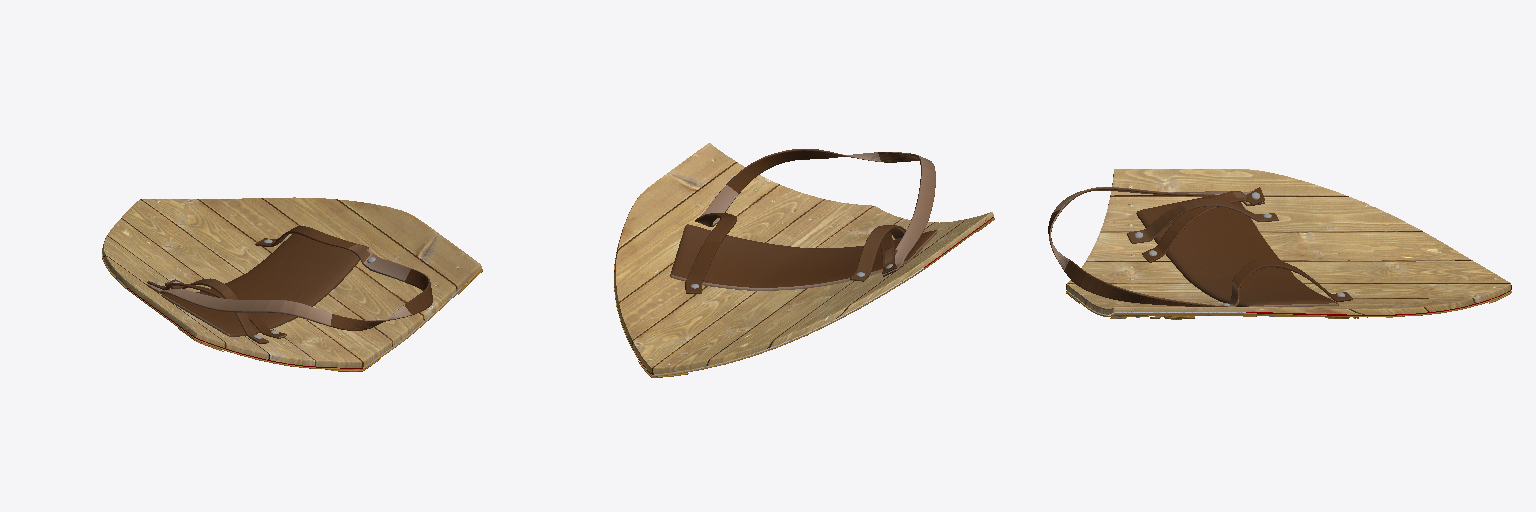
3 renders of one model, left to right at view 1: azimuth 30°, elevation 25°; view 2: azimuth 150°, elevation 25°; view 3: azimuth 270°, elevation 25°, orthographic.
Visible parts, largest first — view 1: Heater_Shield_body, Heater_Shield_decor_2, Heater_Shield_decor; view 2: Heater_Shield_body, Heater_Shield_decor_2, Heater_Shield_decor; view 3: Heater_Shield_body, Heater_Shield_decor_2, Heater_Shield_decor.
Part boxes in pixels (left/top/right/bottom): Heater_Shield_body: left=102, top=197, right=481, bottom=368; Heater_Shield_decor_2: left=147, top=226, right=432, bottom=343; Heater_Shield_decor: left=102, top=256, right=482, bottom=371; Heater_Shield_body: left=614, top=143, right=993, bottom=374; Heater_Shield_decor_2: left=670, top=149, right=936, bottom=293; Heater_Shield_decor: left=614, top=218, right=994, bottom=377; Heater_Shield_body: left=1066, top=169, right=1511, bottom=315; Heater_Shield_decor_2: left=1048, top=187, right=1352, bottom=306; Heater_Shield_decor: left=1066, top=291, right=1511, bottom=319.
Bounding box in the file's own units: 19.35 × 4.93 × 27.01.
4 materials, 2 textured.